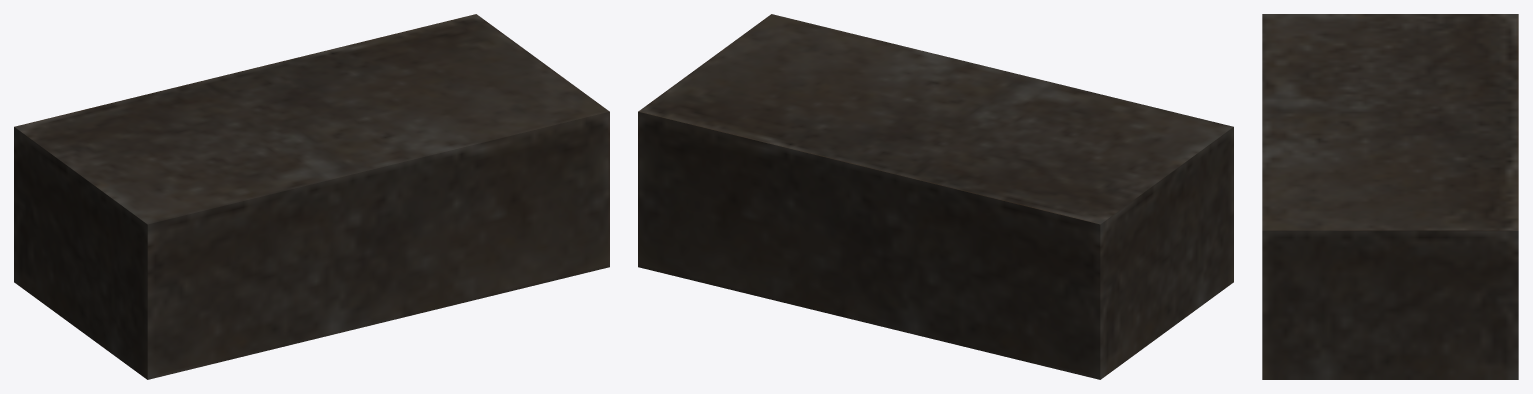
The model's file is brick_mx_3.fbx.
3 renders of one model, left to right at view 1: azimuth 30°, elevation 25°; view 2: azimuth 150°, elevation 25°; view 3: azimuth 270°, elevation 25°, orthographic. The views are drawn at different scales.
Parts seen in each view (by area): view 1: brick_mx_3; view 2: brick_mx_3; view 3: brick_mx_3.
Part boxes in pixels (x1,y1,x2,y2): brick_mx_3: [14, 14, 609, 379]; brick_mx_3: [638, 14, 1233, 379]; brick_mx_3: [1262, 14, 1518, 379].
Bounding box in the file's own units: 0.28 × 0.14 × 0.09.
